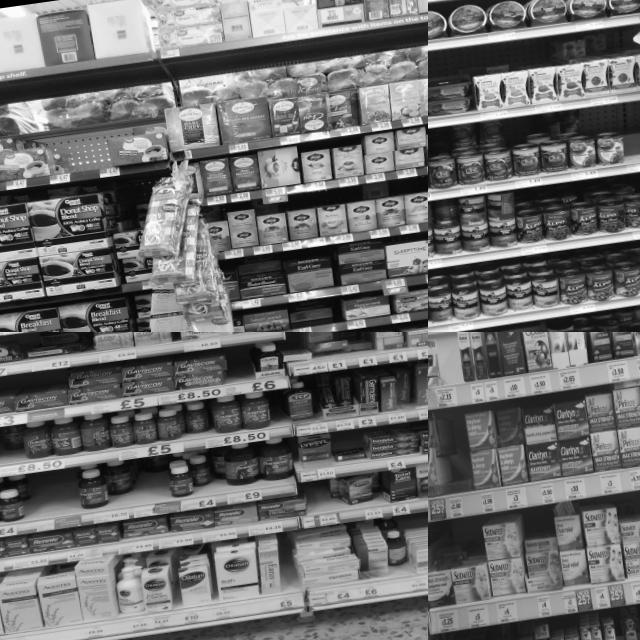100- O.O.S: (32, 469, 80, 531), (451, 411, 479, 516), (435, 332, 466, 406), (70, 132, 112, 180), (619, 100, 640, 173), (278, 540, 300, 608), (225, 346, 254, 394), (305, 481, 335, 527), (140, 470, 168, 516), (270, 390, 292, 438), (237, 332, 277, 344)
